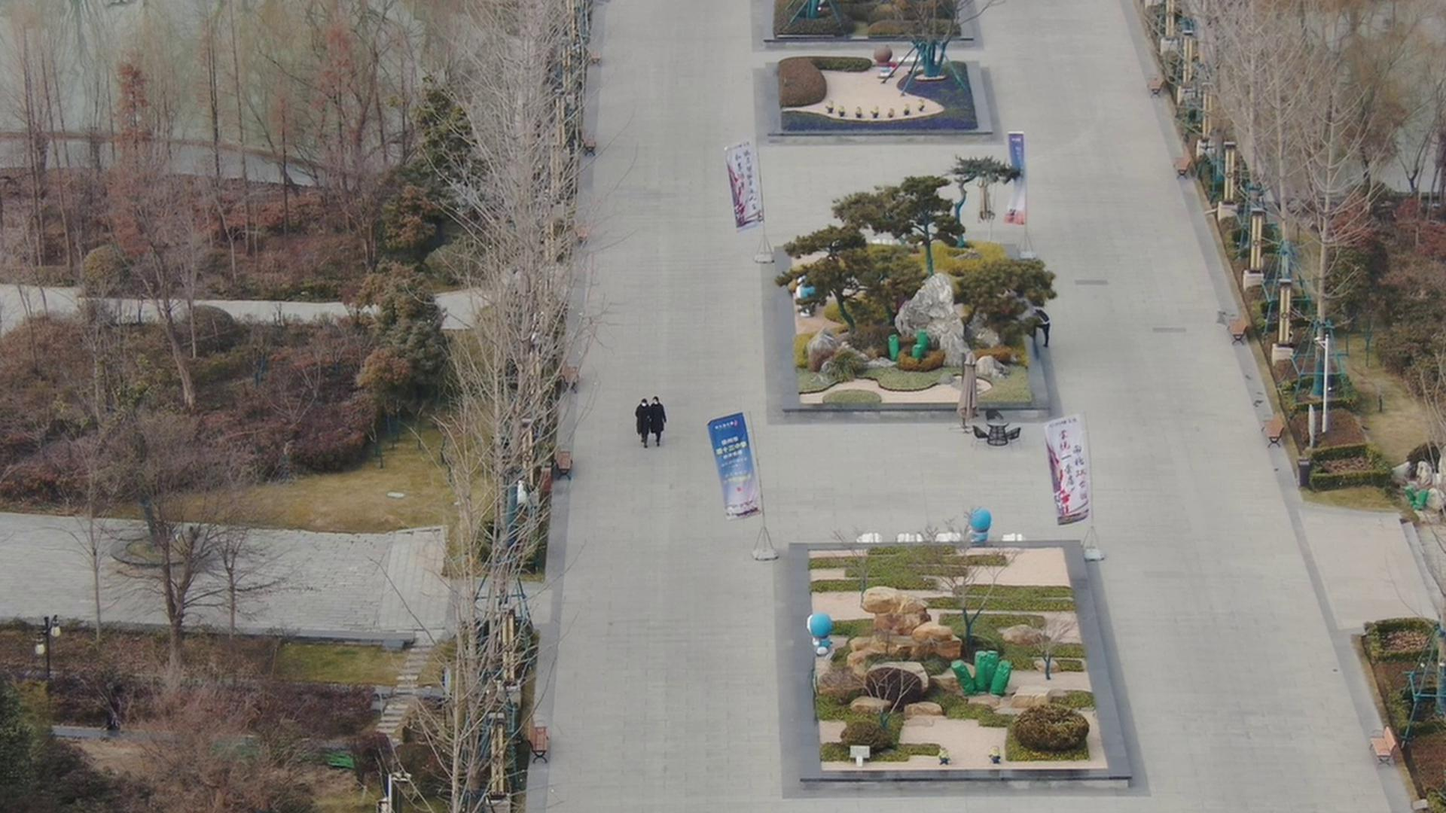class_2: (636, 394, 672, 451)
human: (105, 680, 134, 744)
